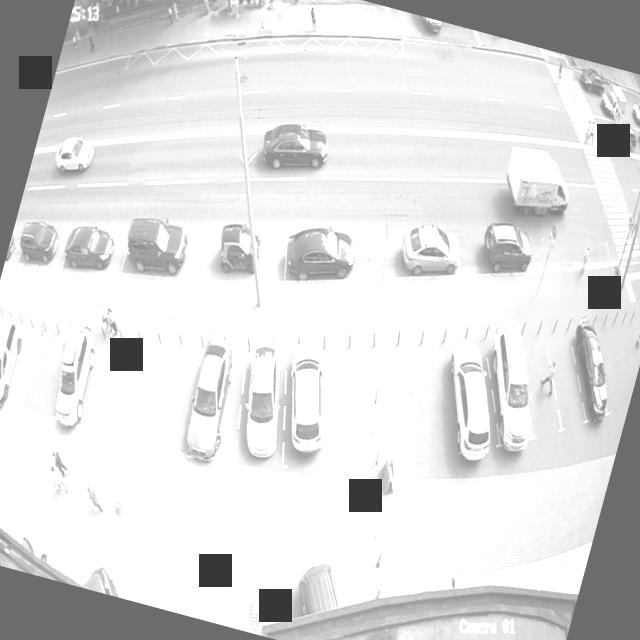car: (410, 322, 524, 472), (247, 332, 359, 482), (158, 334, 274, 476), (452, 322, 564, 468), (208, 337, 316, 482), (342, 342, 446, 481), (29, 322, 132, 442), (550, 320, 632, 442), (364, 209, 474, 299), (191, 214, 295, 304), (281, 219, 386, 301), (117, 212, 210, 294), (445, 208, 536, 290), (0, 310, 48, 416), (4, 215, 76, 283), (60, 222, 134, 282), (3, 230, 27, 270), (0, 302, 9, 394)
free: (298, 338, 404, 481), (124, 332, 229, 462), (385, 344, 486, 472), (484, 321, 584, 448), (59, 322, 160, 443), (92, 328, 192, 450), (520, 326, 612, 443), (0, 313, 77, 430), (11, 317, 92, 423), (0, 311, 27, 410), (0, 314, 9, 393)
